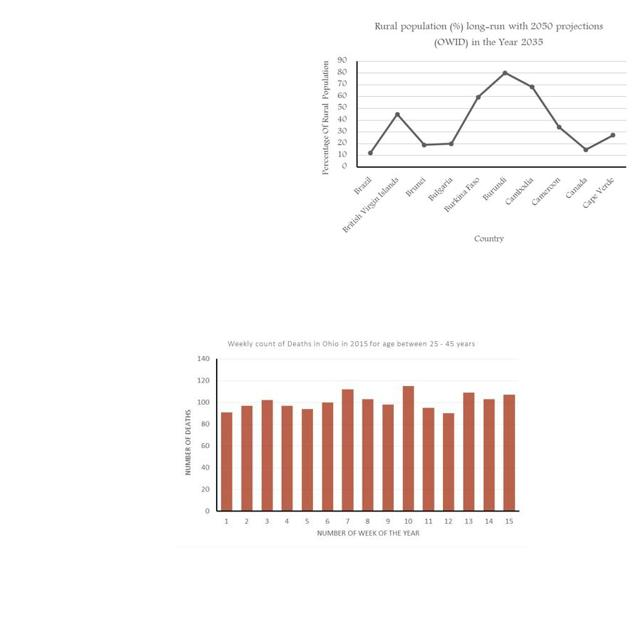Graph: (176, 334, 528, 548), (316, 14, 631, 246)
